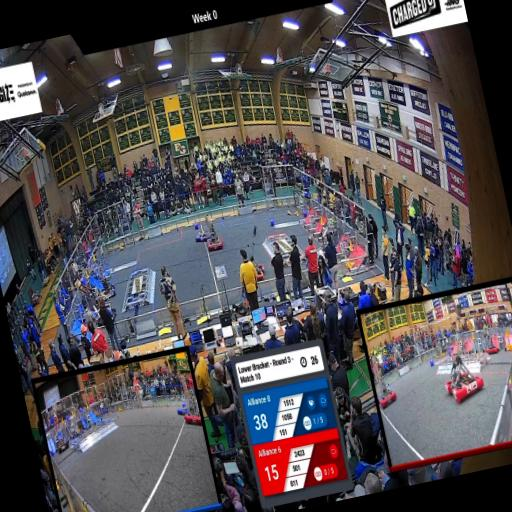robot: (84, 286, 120, 333), (239, 240, 268, 286), (94, 263, 118, 300), (202, 226, 226, 258), (190, 216, 215, 244)
